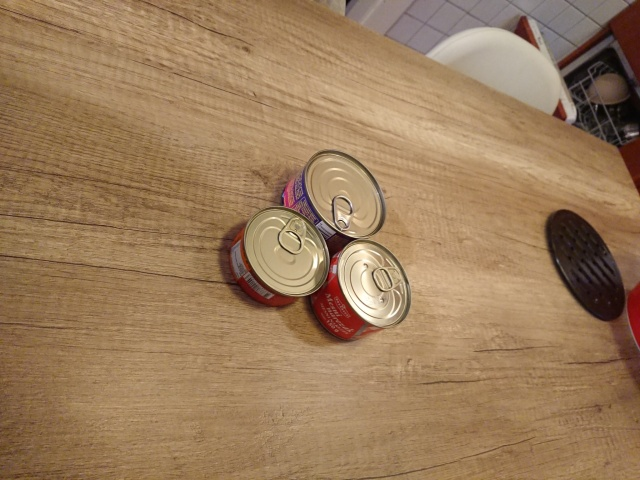Gavrilovic Pork Liver Pate 100g: (226, 204, 332, 309)
Giana Tuna Salad Mexico 185g: (278, 146, 389, 264)
Podravka Luncheon Meat 150g: (304, 234, 414, 344)
